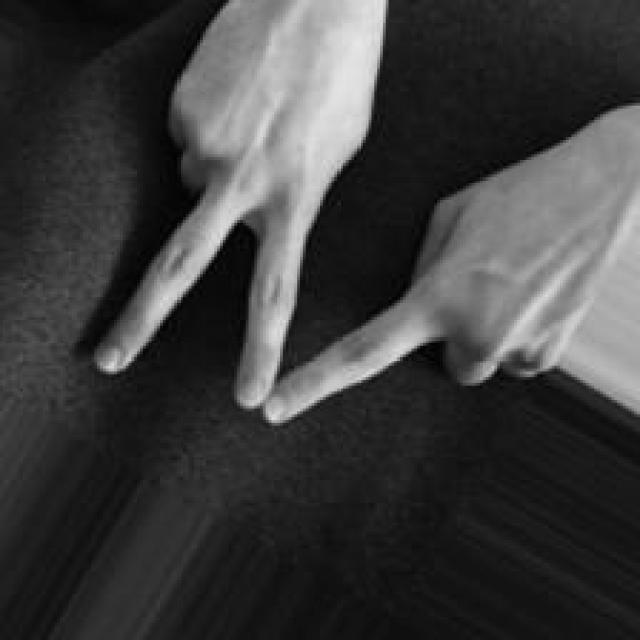N: (82, 4, 590, 439)
